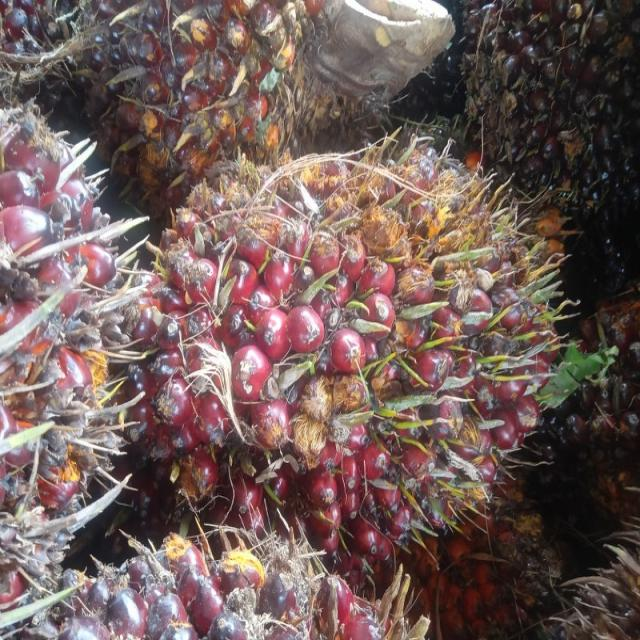fraksi 1: (141, 41, 570, 619)
